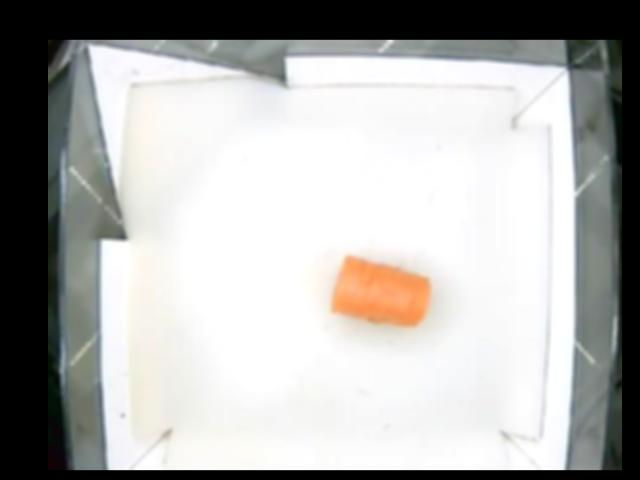Carrot: (331, 255, 432, 327)
